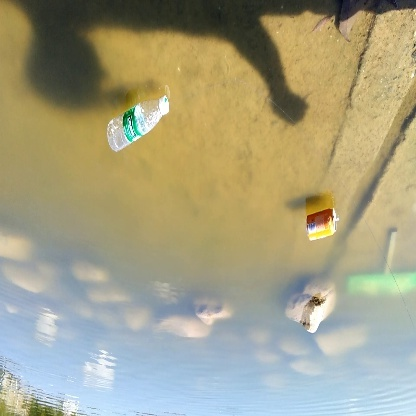bottle: (101, 91, 174, 157), (303, 207, 348, 246)
